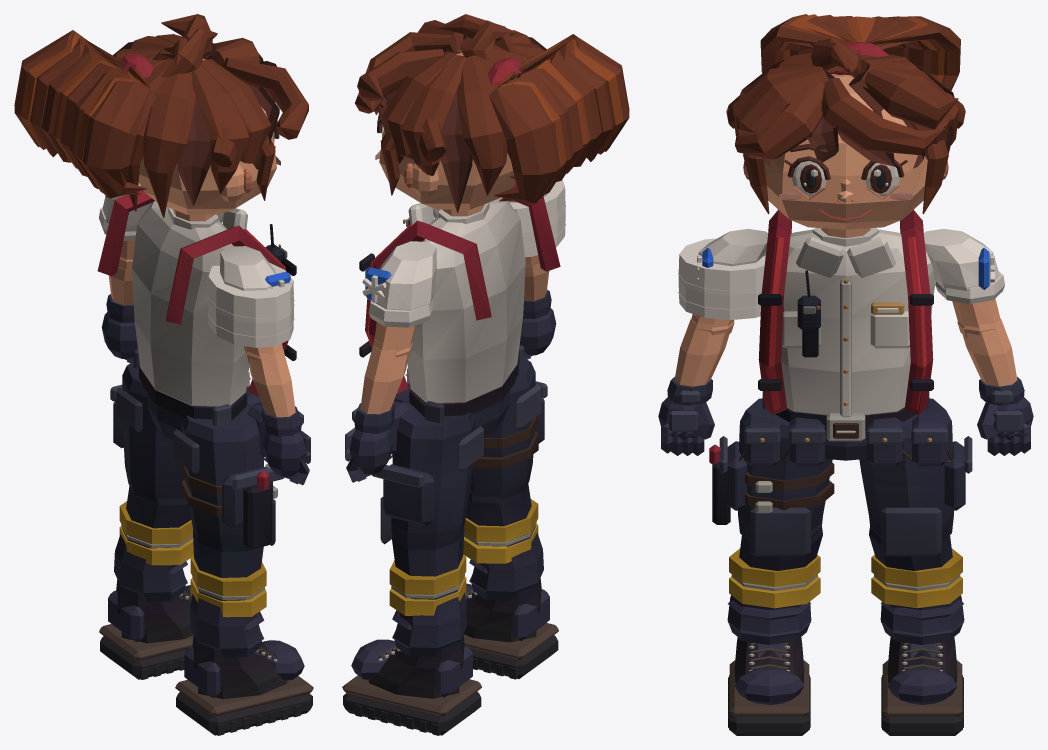
Rendered from npc.rosa.aftermath.glb.
3 renders of one model, left to right at view 1: azimuth 30°, elevation 25°; view 2: azimuth 150°, elevation 25°; view 3: azimuth 270°, elevation 25°, orthographic.
Parts seen in each view (by area): view 1: head, torso, legR, footR, shinR, armR, shinL, footL, legL, foreArmR, hip, handR (+3 smaller); view 2: head, torso, legL, footL, shinL, shinR, footR, legR, armL, foreArmL, hip, handL (+3 smaller); view 3: head, torso, legR, hip, legL, shinR, shinL, footL, footR, armR, armL, foreArmR (+3 smaller).
Boxes of the visible parts, x1,y1,x2,y2 form: head: [14, 14, 308, 221]; torso: [97, 190, 296, 406]; legR: [173, 404, 284, 551]; footR: [175, 635, 313, 735]; shinR: [190, 529, 266, 657]; armR: [207, 246, 294, 355]; shinL: [114, 486, 193, 601]; footL: [99, 579, 193, 679]; legL: [110, 361, 185, 503]; foreArmR: [244, 343, 303, 436]; hip: [133, 349, 266, 461]; handR: [263, 430, 310, 485]; head: [355, 14, 629, 216]; torso: [359, 183, 560, 403]; legL: [371, 401, 483, 549]; footL: [342, 634, 481, 735]; shinL: [389, 528, 466, 656]; shinR: [463, 484, 543, 600]; footR: [463, 578, 558, 679]; legR: [470, 358, 547, 500]; armL: [362, 241, 436, 351]; foreArmL: [352, 339, 412, 433]; hip: [389, 345, 524, 459]; handL: [345, 427, 393, 482]; head: [726, 14, 965, 237]; torso: [758, 209, 935, 417]; legR: [709, 398, 834, 556]; hip: [739, 391, 952, 466]; legL: [859, 398, 972, 556]; shinR: [727, 523, 822, 644]; shinL: [869, 523, 964, 644]; footL: [881, 637, 963, 735]; footR: [728, 637, 810, 735]; armR: [678, 229, 767, 327]; armL: [924, 229, 1004, 327]; foreArmR: [667, 314, 734, 405].
Bounding box in the file's own units: 0.6215 × 1.81 × 0.9277.
